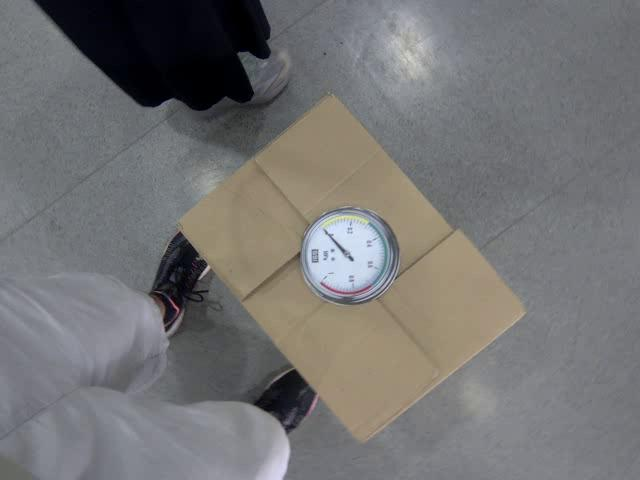Dashboard: (300, 207, 400, 307)
ssi: (309, 249, 320, 265)
